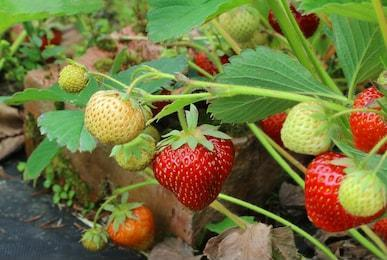Fresa: (151, 121, 237, 215), (300, 148, 387, 237), (343, 77, 387, 157)
